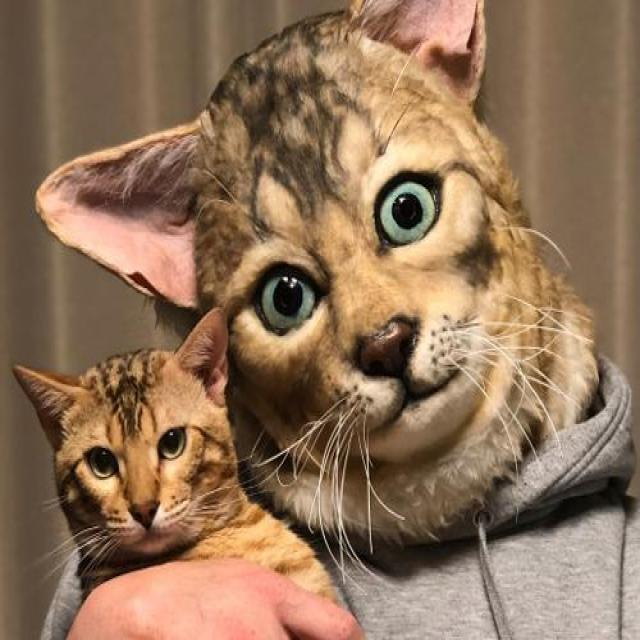Cat: (25, 2, 543, 496), (11, 351, 239, 562)
